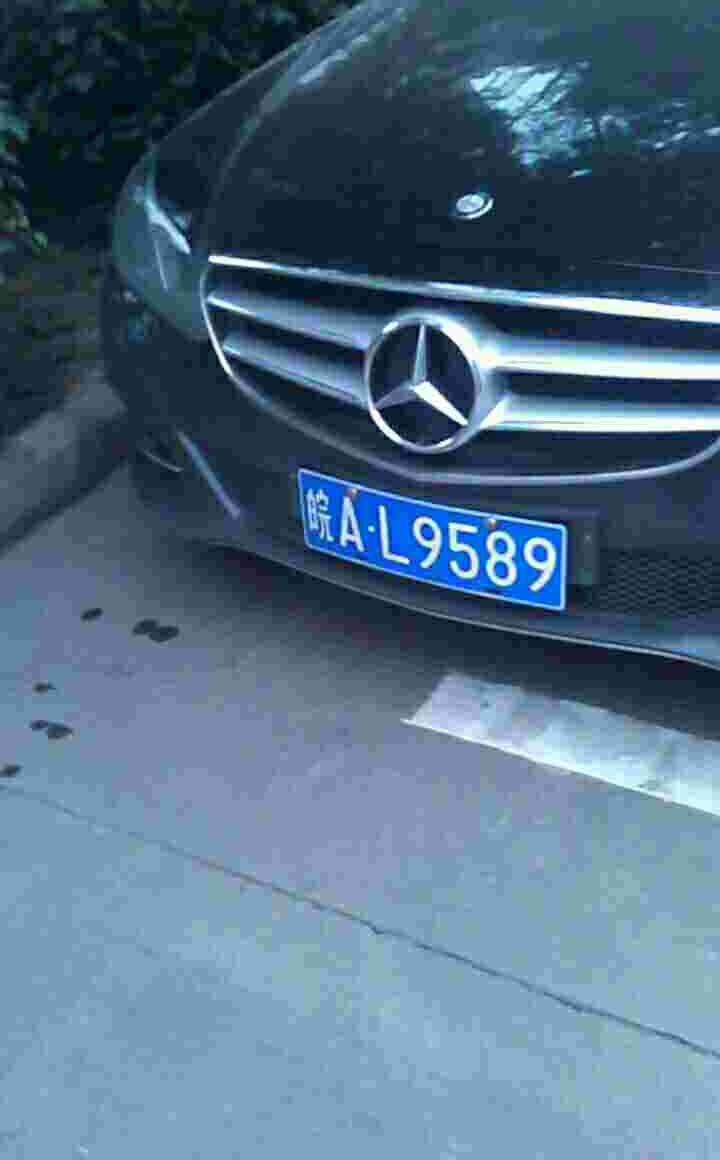license_plate: (301, 469, 562, 617)
